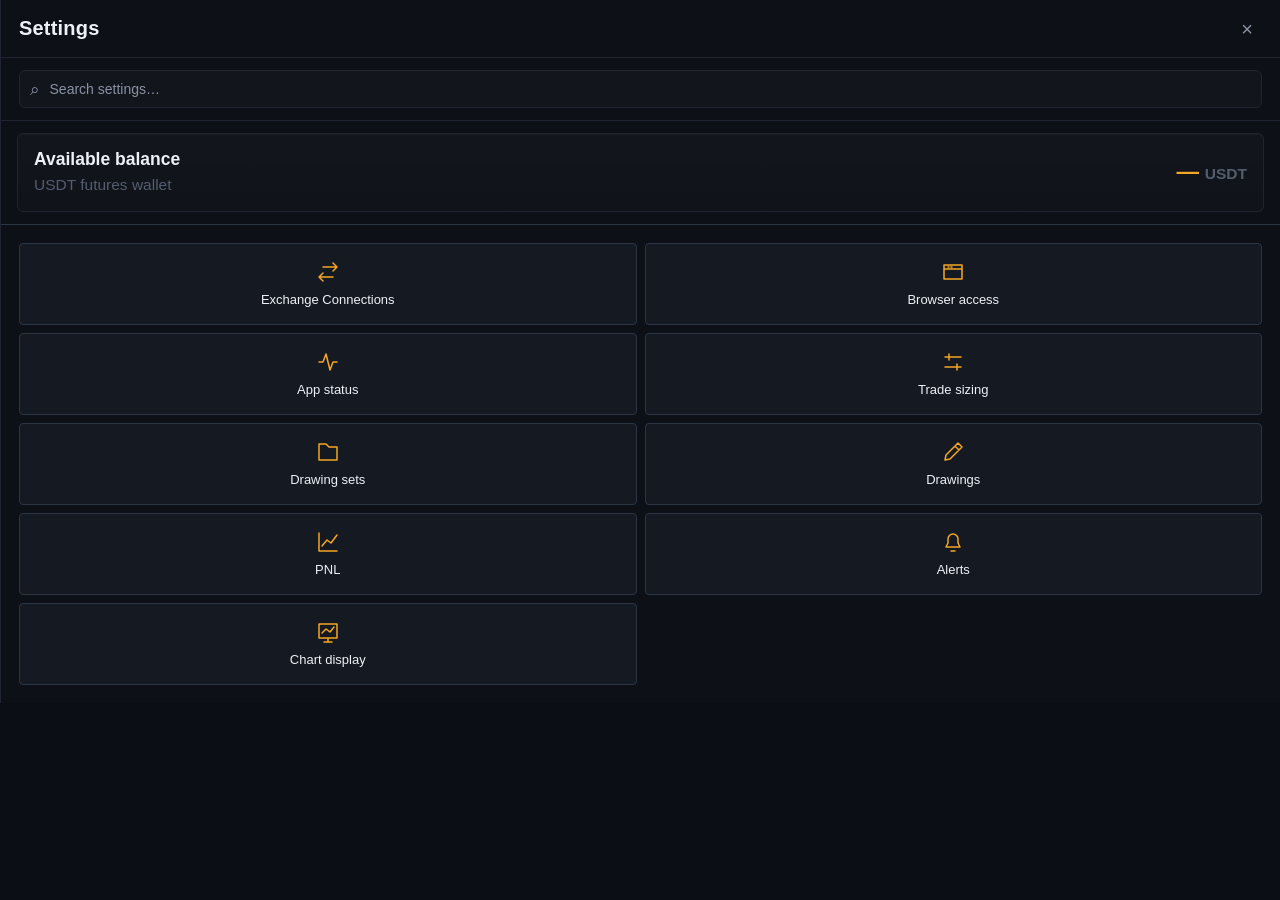
Test: Settings section picker › loads server alerts through picker even when the saved section was collapsed
The width and height of the screenshot is (1280, 900).
Click the button "Alerts" at (953, 554), box x1=644 y1=513 x2=1262 y2=595
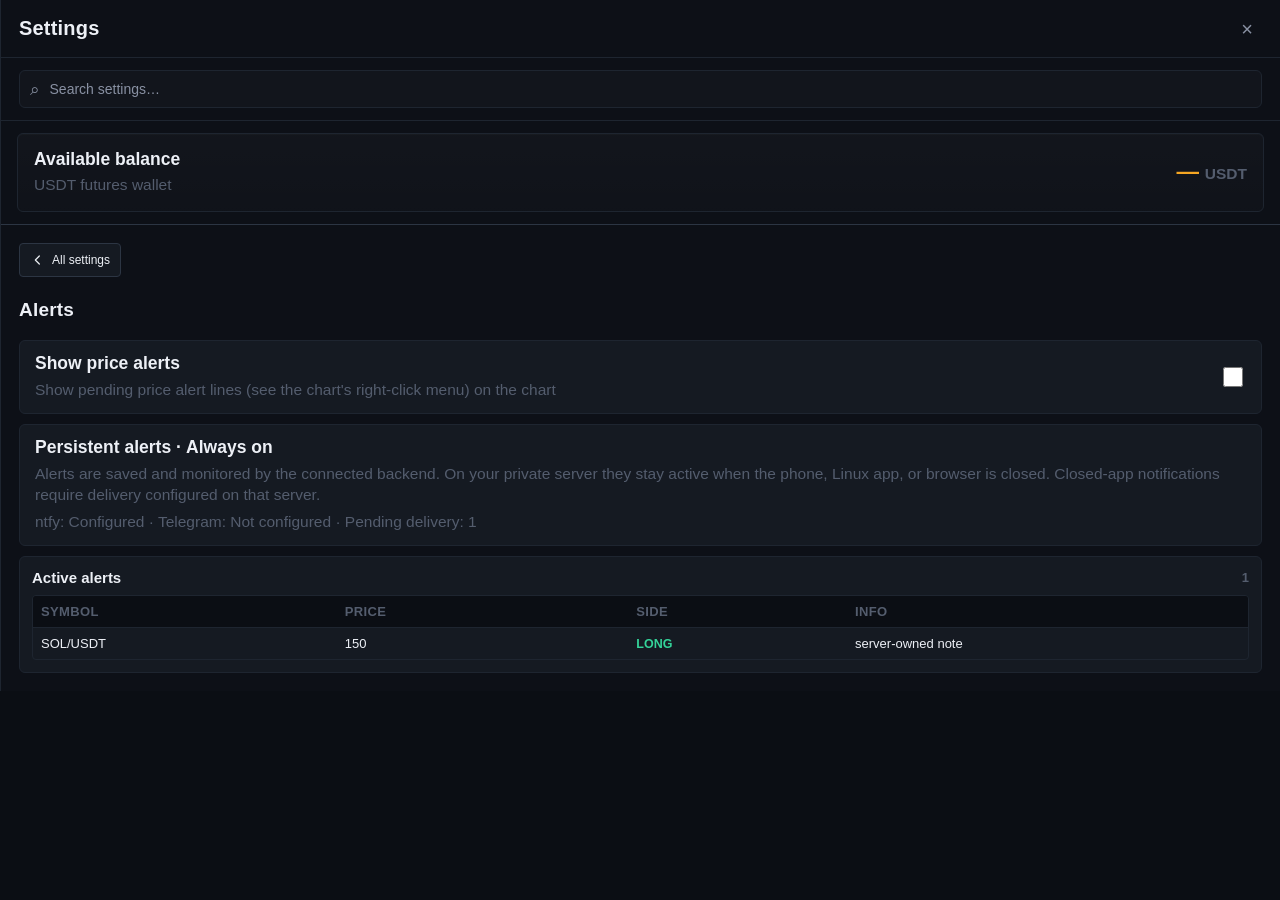
Check: the text "server-owned note" is shown, box x1=847 y1=627 x2=1248 y2=659
